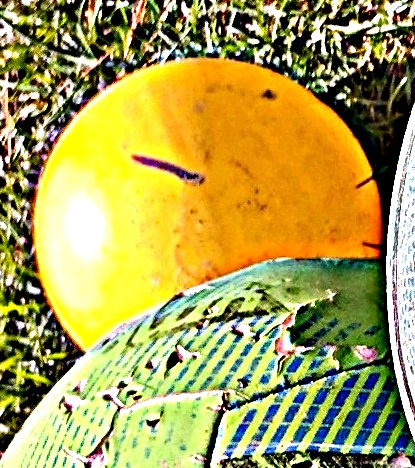ball: (30, 54, 385, 386)
